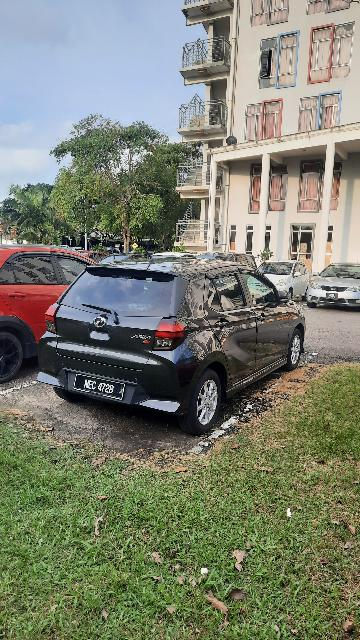License_Plate: (73, 372, 131, 406)
car: (33, 259, 313, 432), (1, 238, 135, 381), (312, 255, 360, 324)
